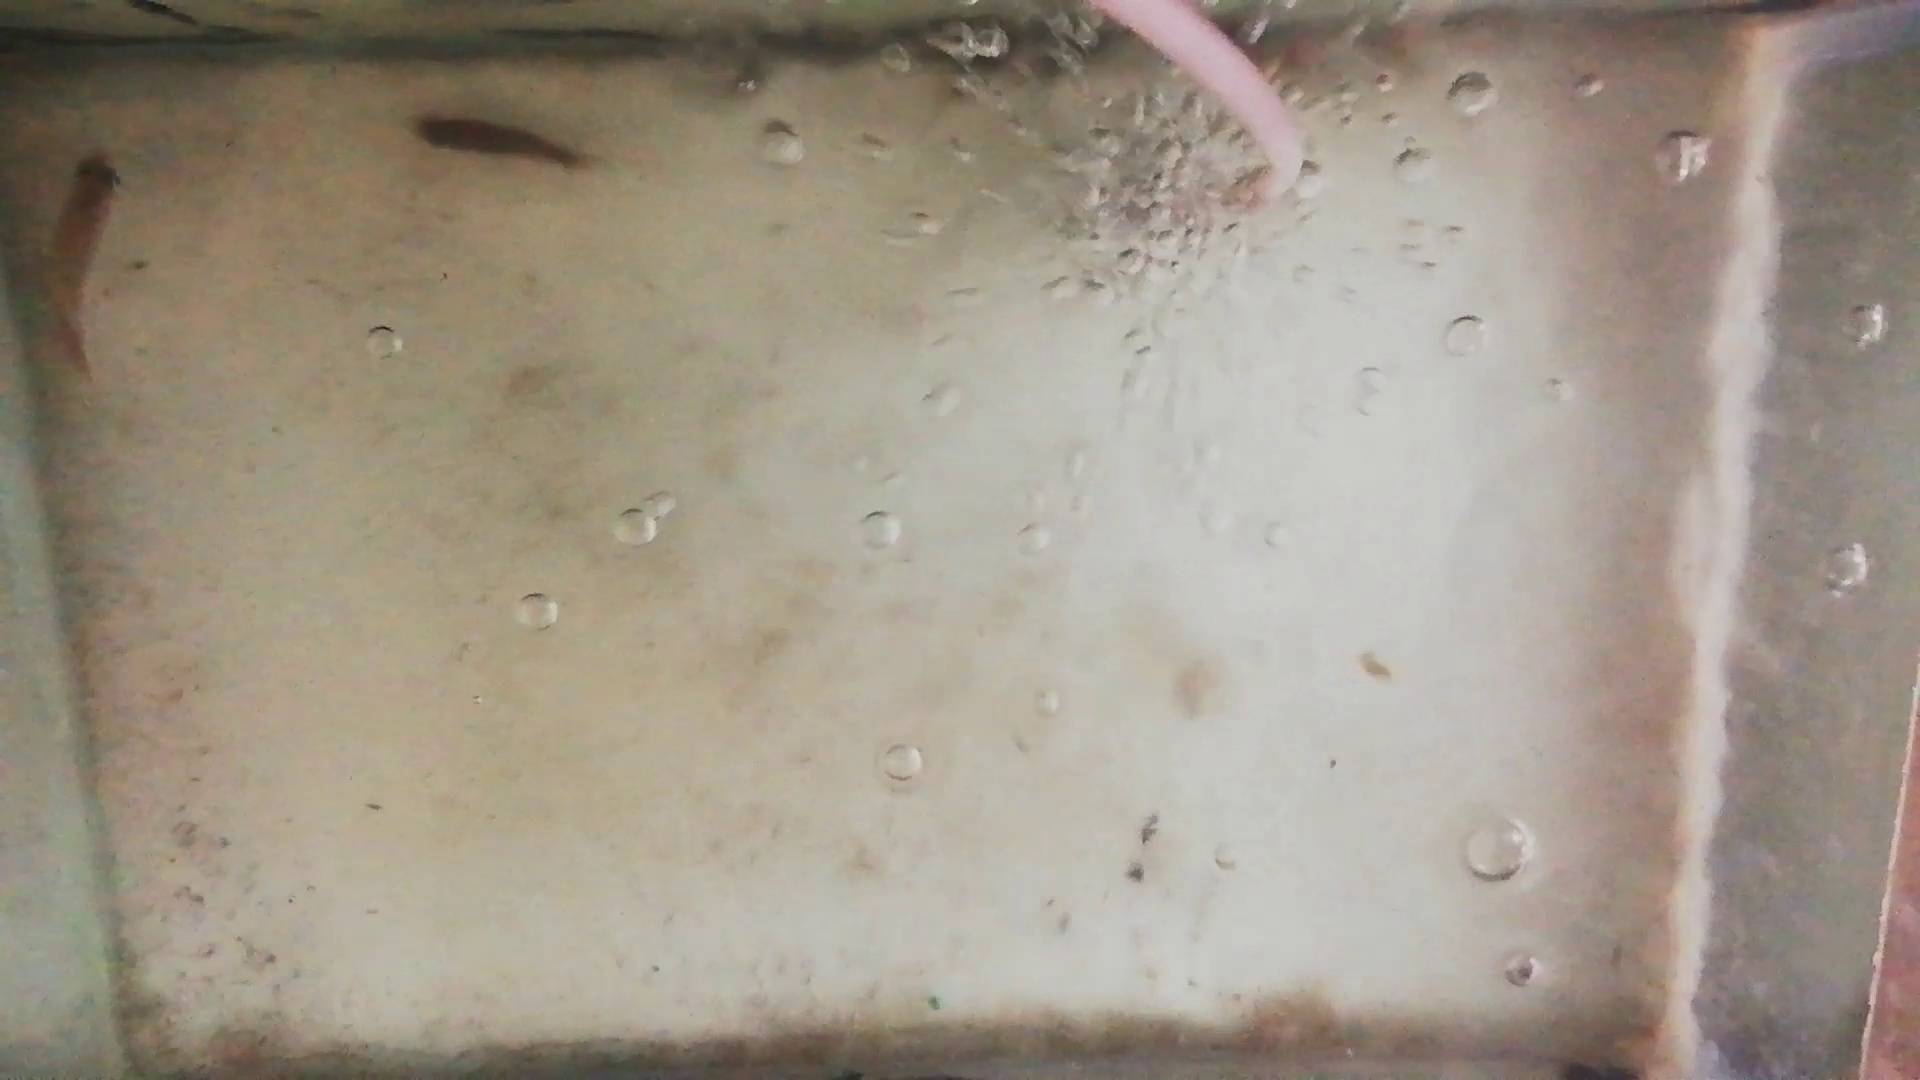fish: (45, 146, 124, 375), (405, 111, 585, 164)
